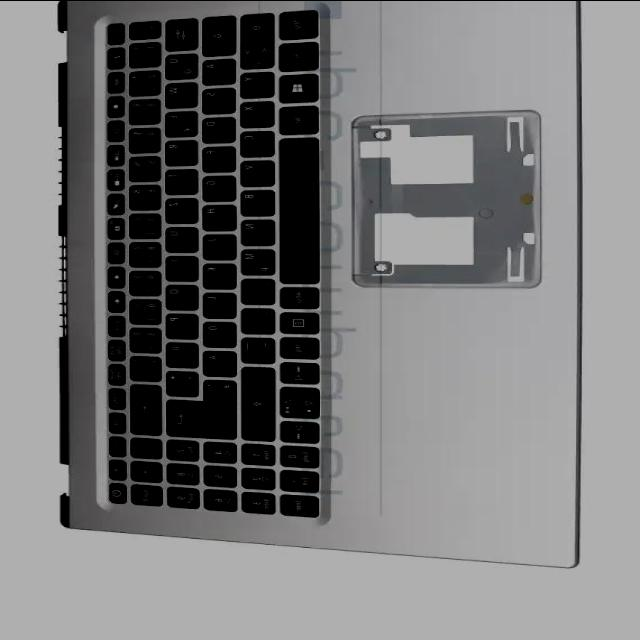0: (127, 296, 159, 323)
1: (127, 40, 159, 66)
2: (126, 69, 160, 95)
3: (127, 96, 161, 123)
4: (127, 126, 159, 152)
5: (127, 154, 159, 180)
6: (127, 183, 159, 209)
7: (127, 211, 159, 237)
8: (127, 240, 159, 266)
9: (127, 268, 159, 295)
a: (200, 57, 235, 84)
accent: (127, 354, 159, 380)
ae: (200, 348, 236, 376)
alt-left: (276, 103, 318, 133)
altgr-right: (278, 285, 318, 308)
b: (238, 188, 274, 216)
c: (237, 128, 274, 156)
caret: (126, 19, 160, 37)
comma: (238, 276, 274, 304)
d: (199, 115, 234, 142)
del: (127, 382, 161, 434)
e: (162, 109, 196, 136)
enter: (164, 398, 236, 438)
f: (200, 144, 235, 171)
g: (200, 173, 235, 200)
h: (199, 202, 236, 229)
hash: (200, 378, 235, 406)
i: (163, 254, 197, 280)
j: (199, 232, 236, 258)
k: (200, 261, 236, 288)
keyboard: (93, 2, 337, 526)
l: (200, 289, 235, 317)
less: (238, 42, 273, 68)
m: (238, 247, 274, 274)
minus: (238, 335, 274, 363)
n: (238, 217, 274, 245)
o: (163, 282, 197, 309)
oe: (200, 319, 235, 346)
p: (163, 311, 197, 337)
plus: (163, 368, 198, 396)
point: (238, 306, 274, 334)
q: (162, 52, 196, 78)
r: (162, 138, 196, 164)
s: (199, 85, 234, 112)
shift-left: (238, 11, 273, 41)
shift-lock: (200, 14, 234, 55)
shift-right: (238, 364, 274, 440)
space: (276, 135, 318, 281)
ss: (127, 326, 159, 352)
strg-left: (277, 8, 317, 38)
strg-right: (278, 334, 318, 358)
t: (163, 167, 197, 194)
tab: (163, 16, 197, 50)
u: (163, 225, 197, 252)
ue: (163, 340, 197, 366)
v: (237, 158, 274, 185)
w: (162, 80, 196, 106)
x: (237, 99, 274, 126)
y: (238, 69, 274, 97)
z: (162, 196, 197, 223)
